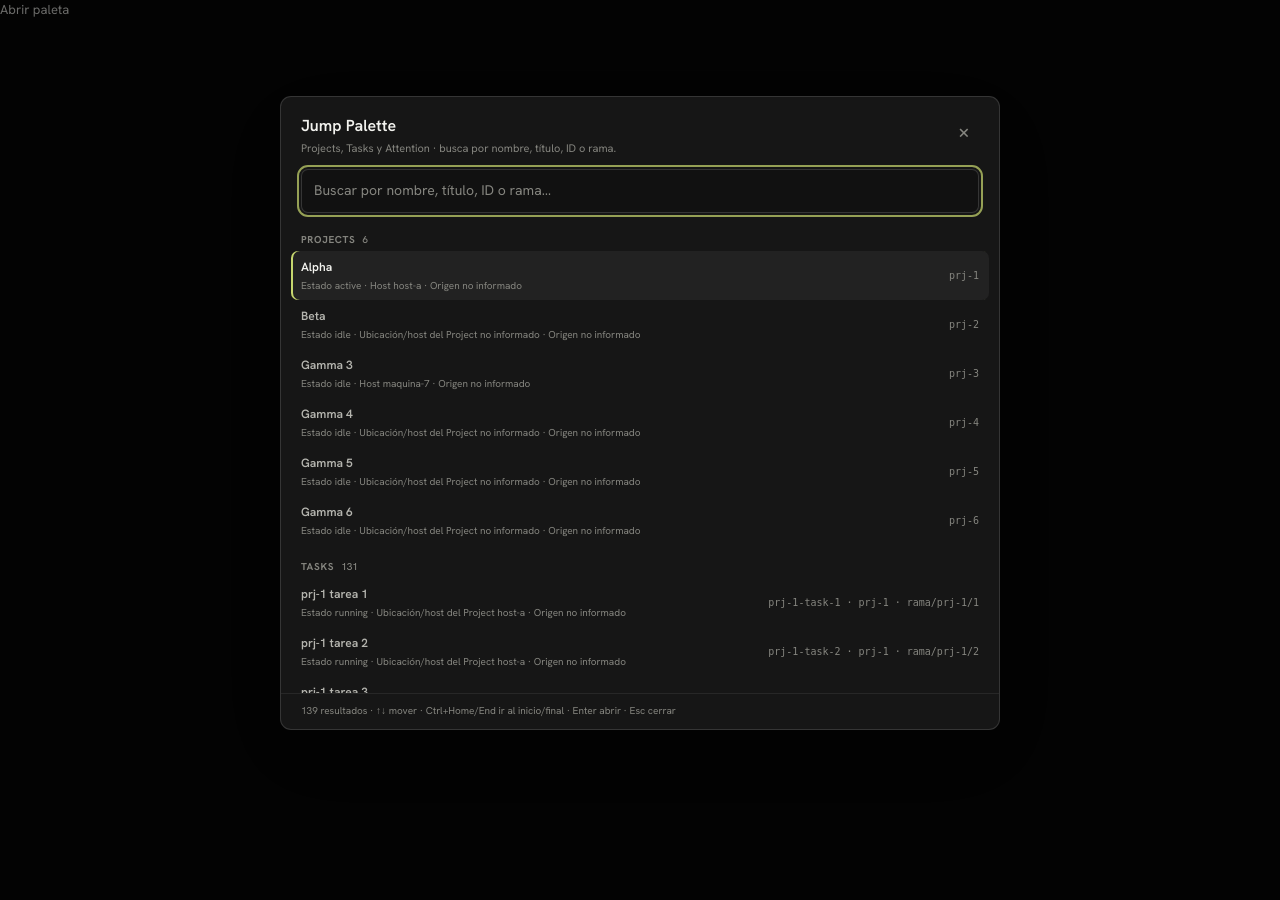
Test: JumpPaletteHost · lecturas › busca por título/nombre y ID durable, y deja la rama como metadato secundario
The image size is (1280, 900).
Type "Beta" into the dropdown named "Buscar Projects, Tasks y Attention".
click(640, 190); type("Beta")  # box 301,168 -> 979,212
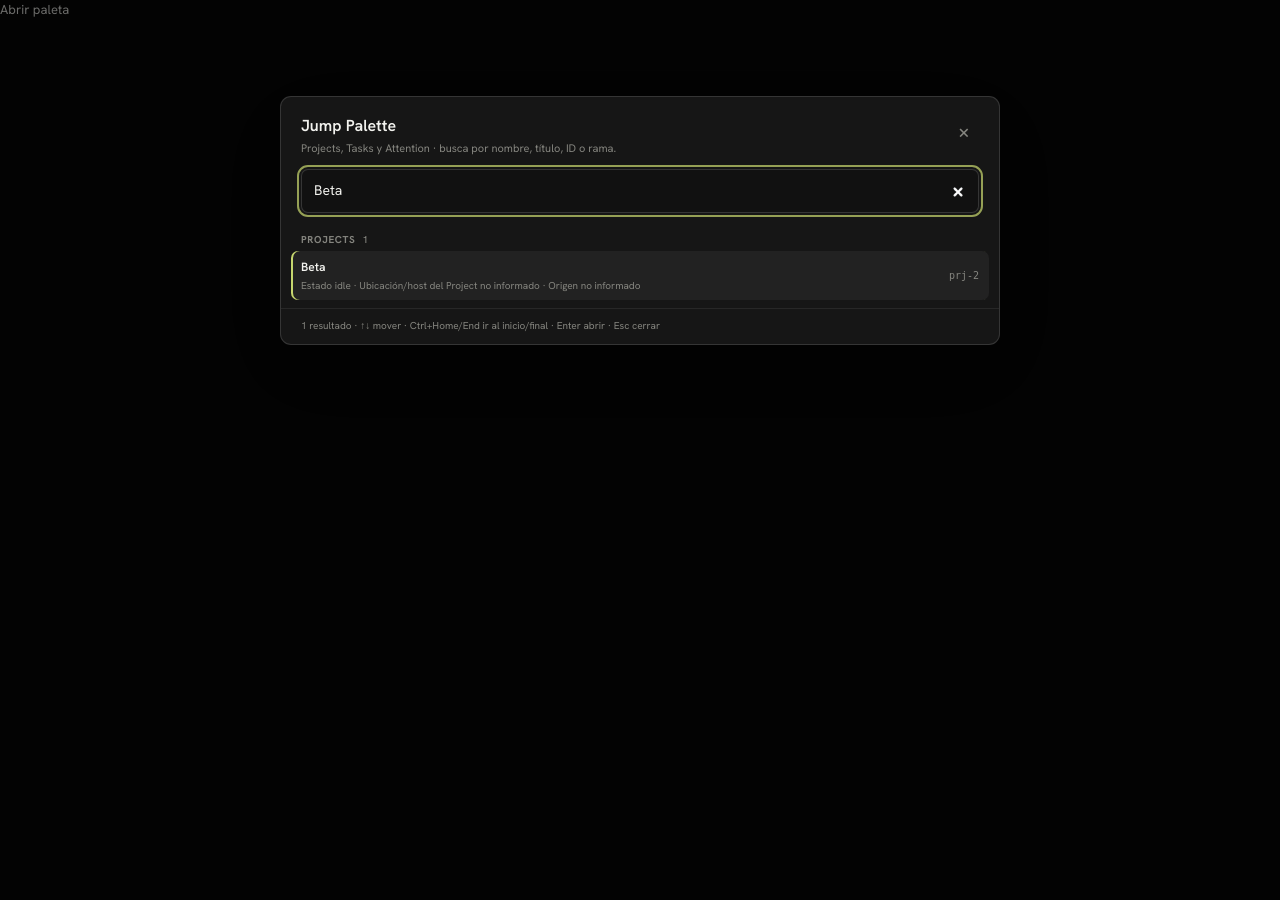
Expected: the option "Beta" is shown, 291,250 -> 989,300
Replace the text in the dropdown named "Buscar Projects, Tasks y Attention" with "prj-1-task-77" at (640, 190), box 301,168 -> 979,212
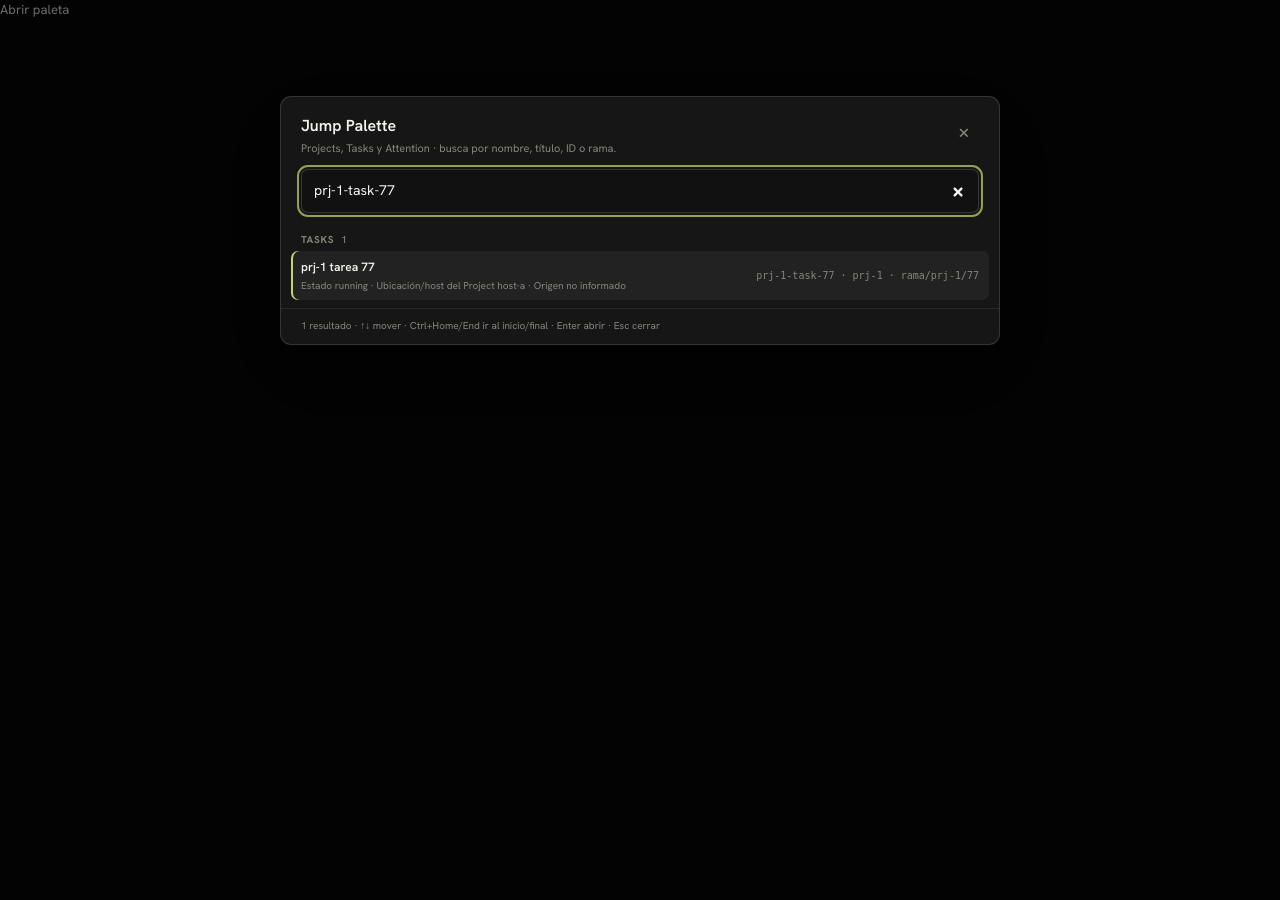
Result: the number of options is 1 at 291,250 -> 989,300
Replace the text in the dropdown named "Buscar Projects, Tasks y Attention" with "login" at (640, 190), box 301,168 -> 979,212
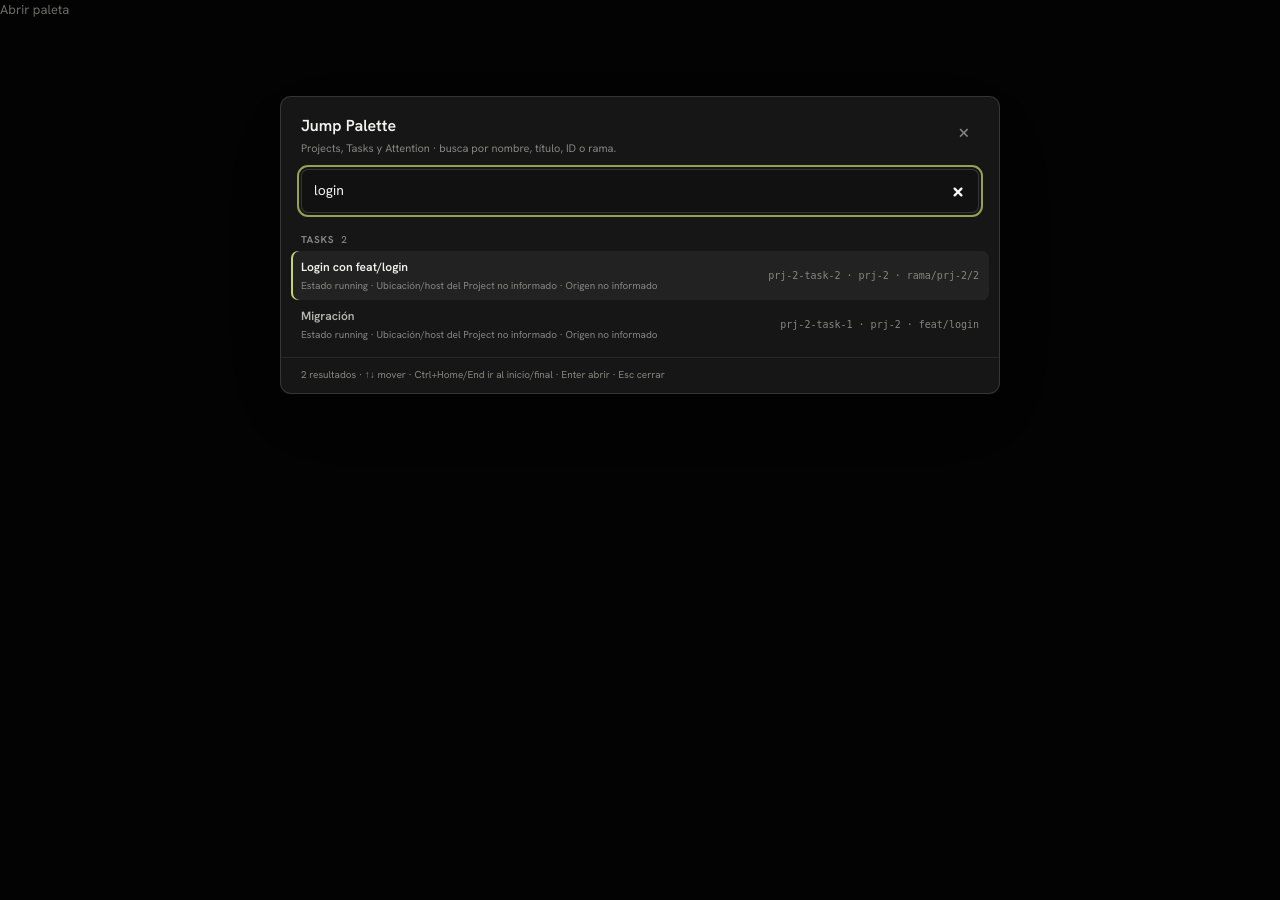
Result: the option that starts with "Login con feat/login" is shown at 291,250 -> 989,300
Result: the option that starts with "Migración" is shown at 291,300 -> 989,348
Replace the text in the dropdown named "Buscar Projects, Tasks y Attention" with "rama/prj-3/2" at (640, 190), box 301,168 -> 979,212
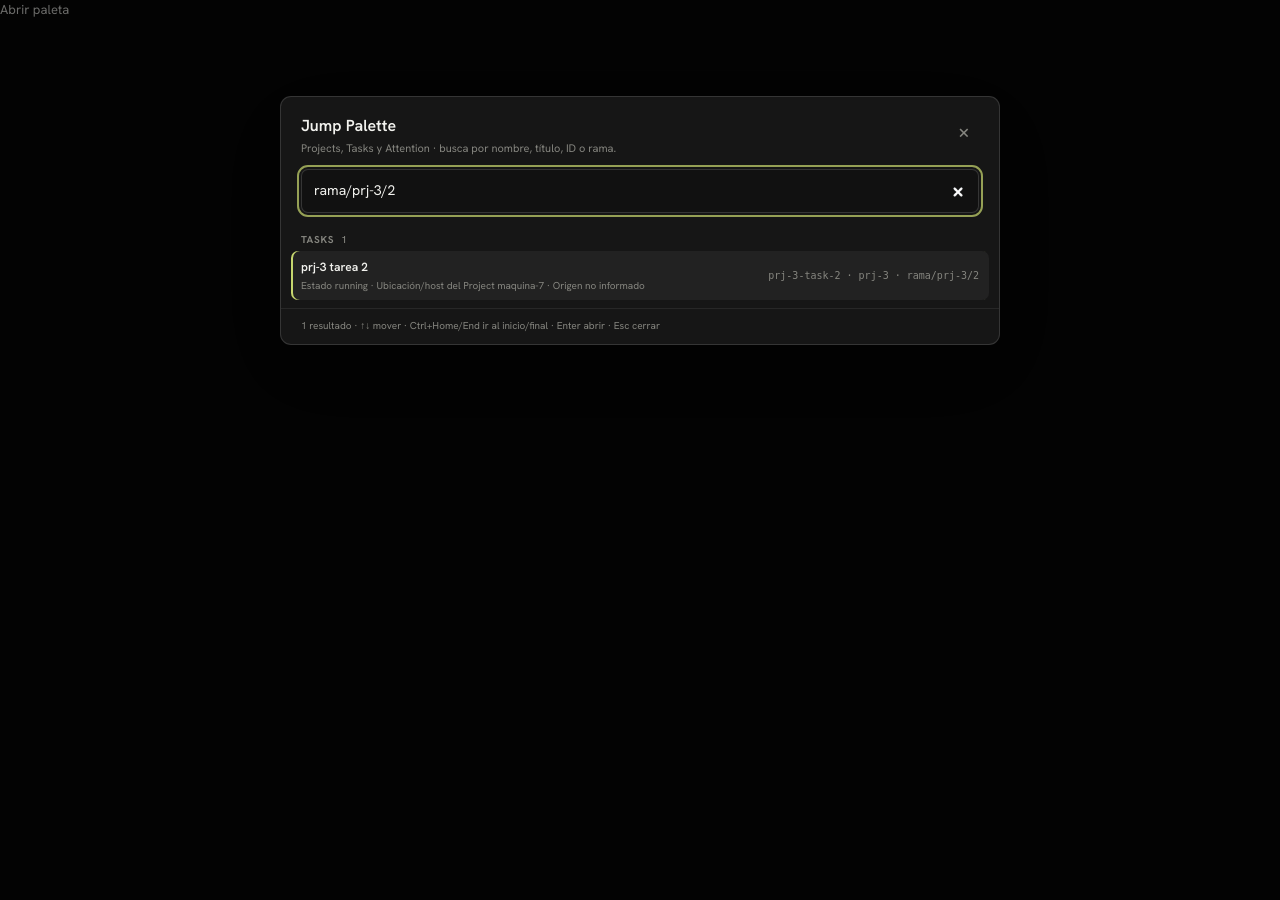
Result: the number of options is 1 at 291,250 -> 989,300
